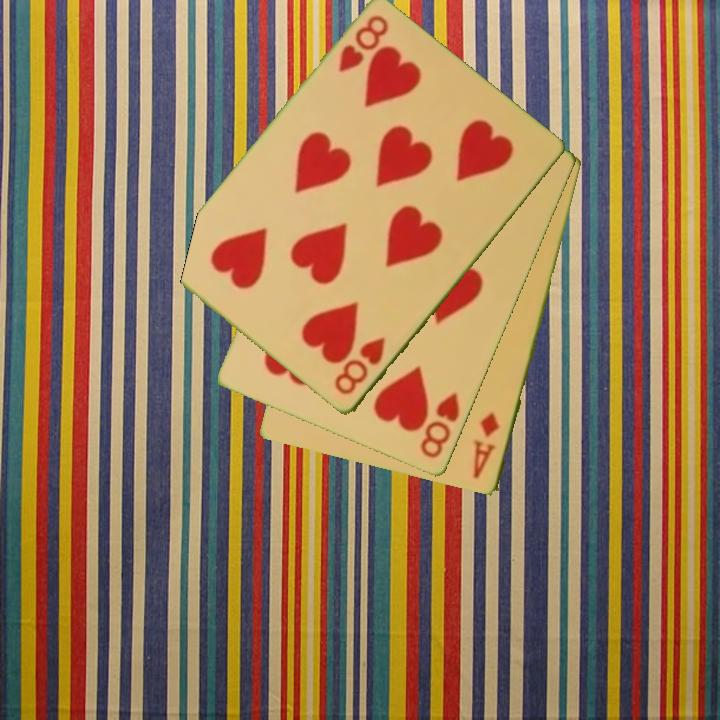8h: (330, 334, 389, 399), (335, 12, 392, 76), (417, 389, 463, 462)
Ad: (470, 409, 503, 482)
